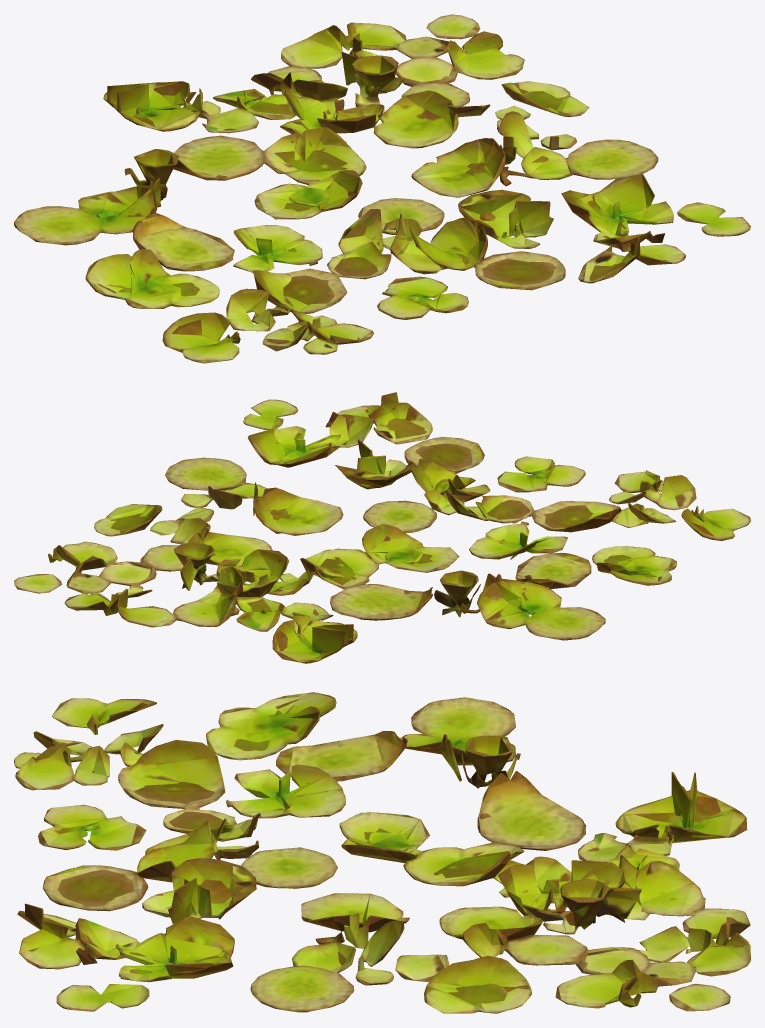
The model's file is swamp_lilypads_01.glb.
3 renders of one model, top to bottom at view 1: azimuth 30°, elevation 25°; view 2: azimuth 150°, elevation 25°; view 3: azimuth 270°, elevation 25°, orthographic. The views are drawn at different scales.
Visible parts, largest first — view 1: geometry_0; view 2: geometry_0; view 3: geometry_0.
Part boxes in pixels (x1,y1,x2,y2): geometry_0: [14, 14, 750, 363]; geometry_0: [14, 392, 750, 663]; geometry_0: [14, 692, 750, 1013].
Size of the model in its own units: 0.9991 by 0.0817 by 0.9939.
1 material, 1 textured.
